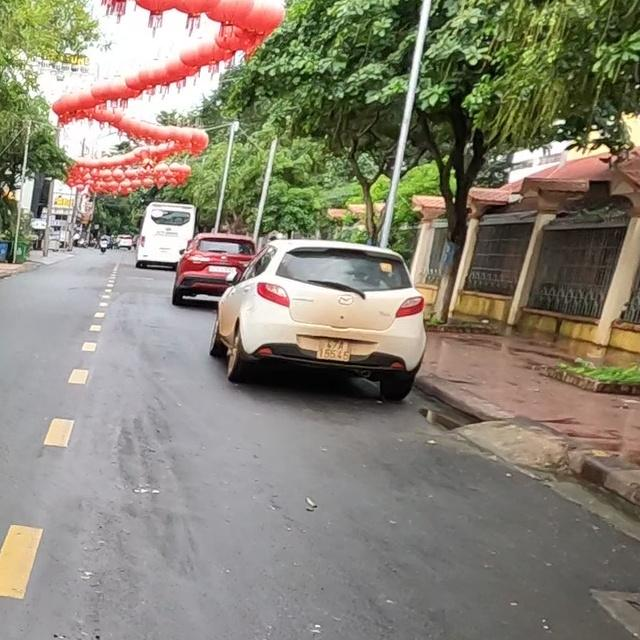license-plate: (317, 340, 351, 361)
